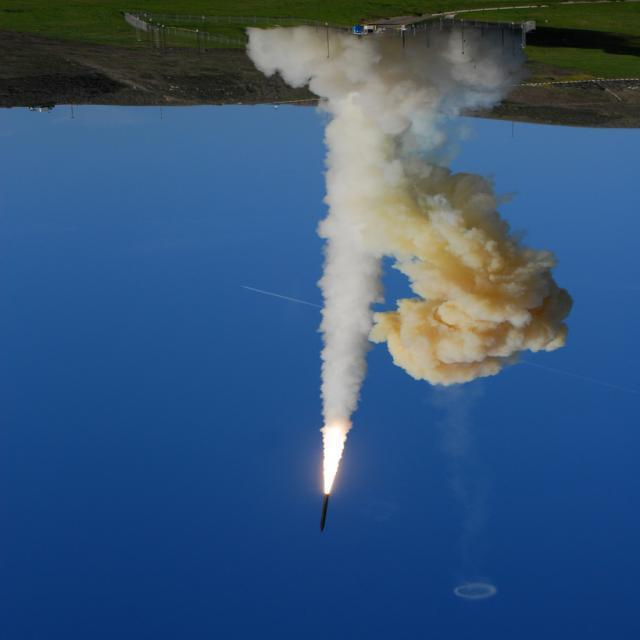missile: (316, 489, 334, 534)
